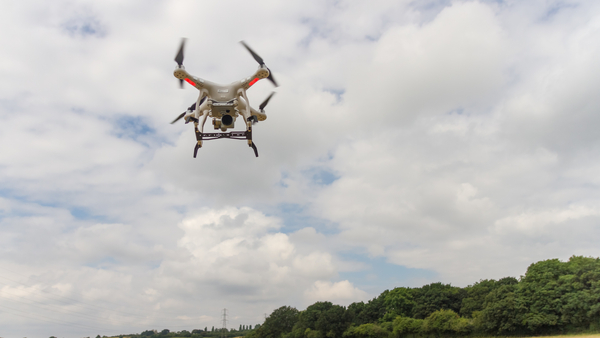drone: (168, 35, 281, 161)
